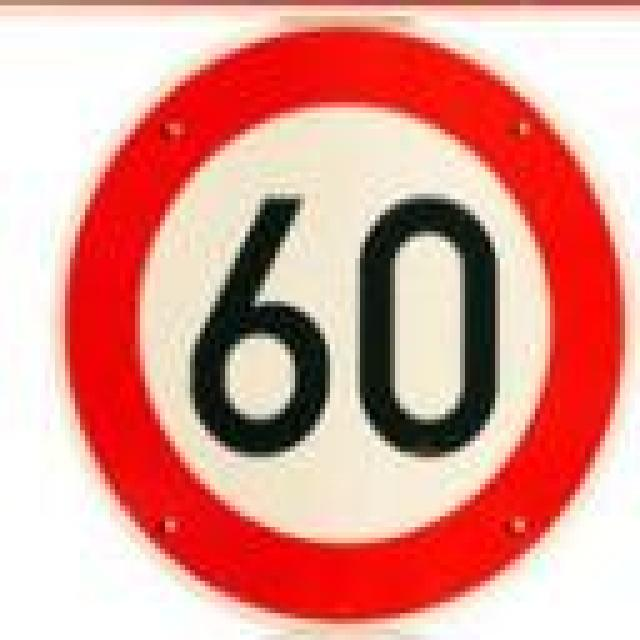traffic_sign: (60, 16, 620, 619)
